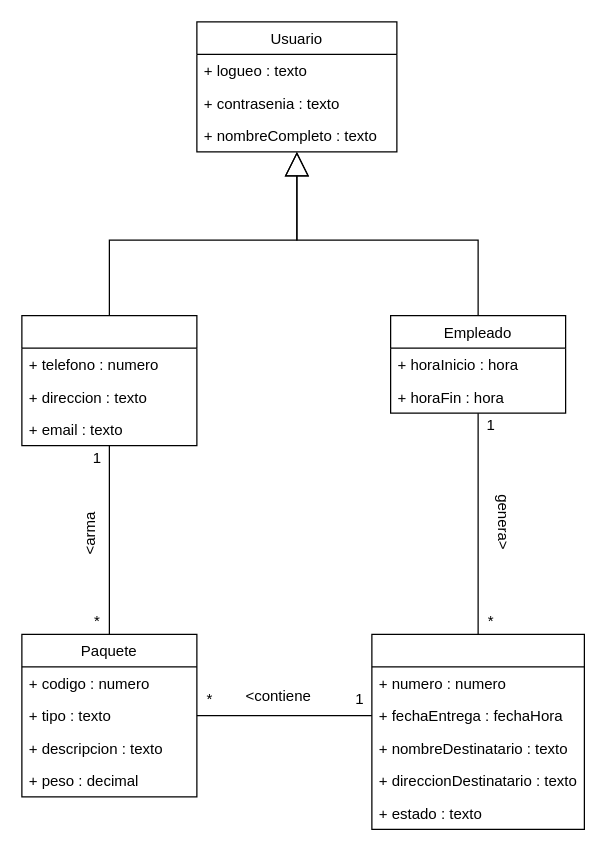
The diagram is 606 pixels wide and 855 high, and some of its shapes have lost their labels. Each missing label, with the box of its shape:
Empresa: (21, 314, 197, 446)
Solicitud: (371, 633, 584, 829)
